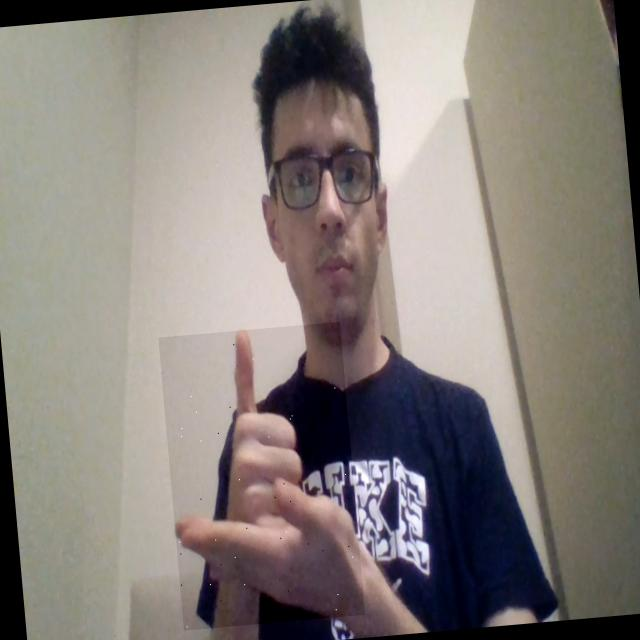help: (158, 321, 365, 630)
